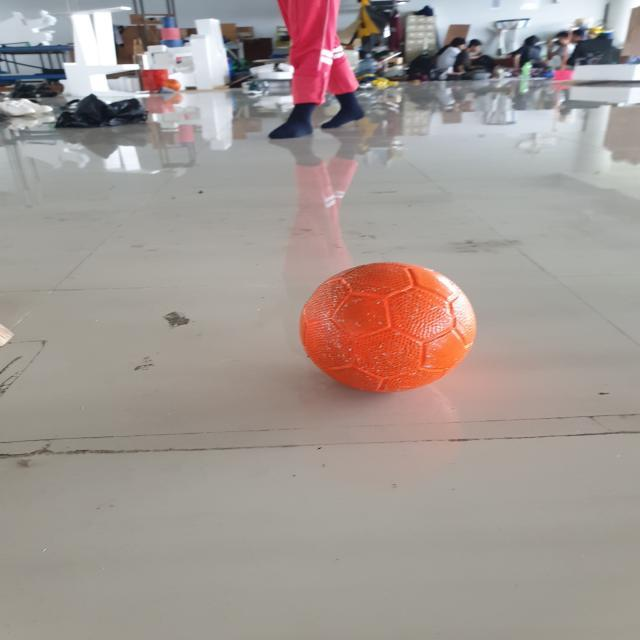bola: (272, 250, 519, 400)
